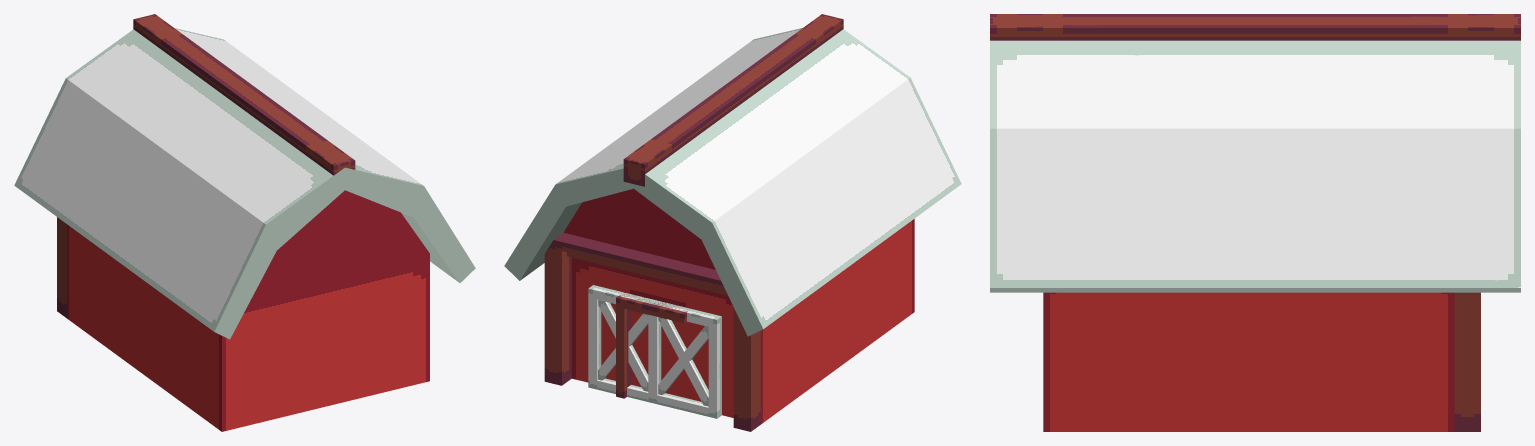
Rendered from barn.glb.
3 views of the same model, side by side, from view 1: azimuth 30°, elevation 25°; view 2: azimuth 150°, elevation 25°; view 3: azimuth 270°, elevation 25° (orthographic). The views are drawn at different scales.
Visible parts, largest first — view 1: cuboid (×2), cube (×3); view 2: cuboid (×2), cube (×20); view 3: cuboid, cube (×3).
Boxes of the visible parts, box(x1,y1,x2,y2) form: cuboid (×2): box(14, 28, 475, 339); cube (×3): box(57, 14, 429, 431); cuboid (×2): box(504, 28, 961, 336); cube (×20): box(544, 14, 914, 431); cuboid: box(990, 40, 1520, 292); cube (×3): box(990, 14, 1520, 431).
Size of the model in its own units: 3.77 by 3.56 by 5.
2 materials, 2 textured.
